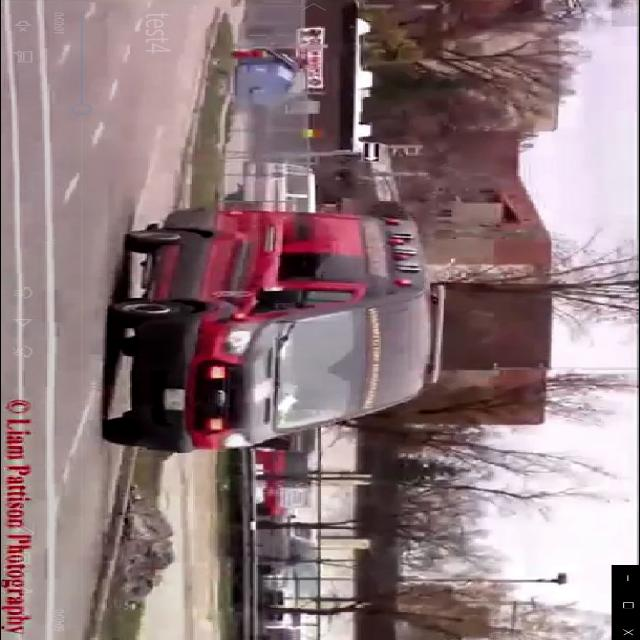emergency: (94, 205, 444, 456)
